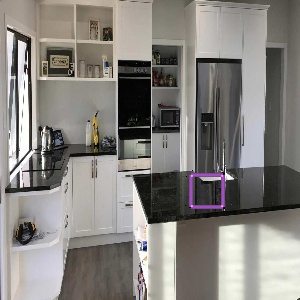square: (187, 171, 228, 212)
